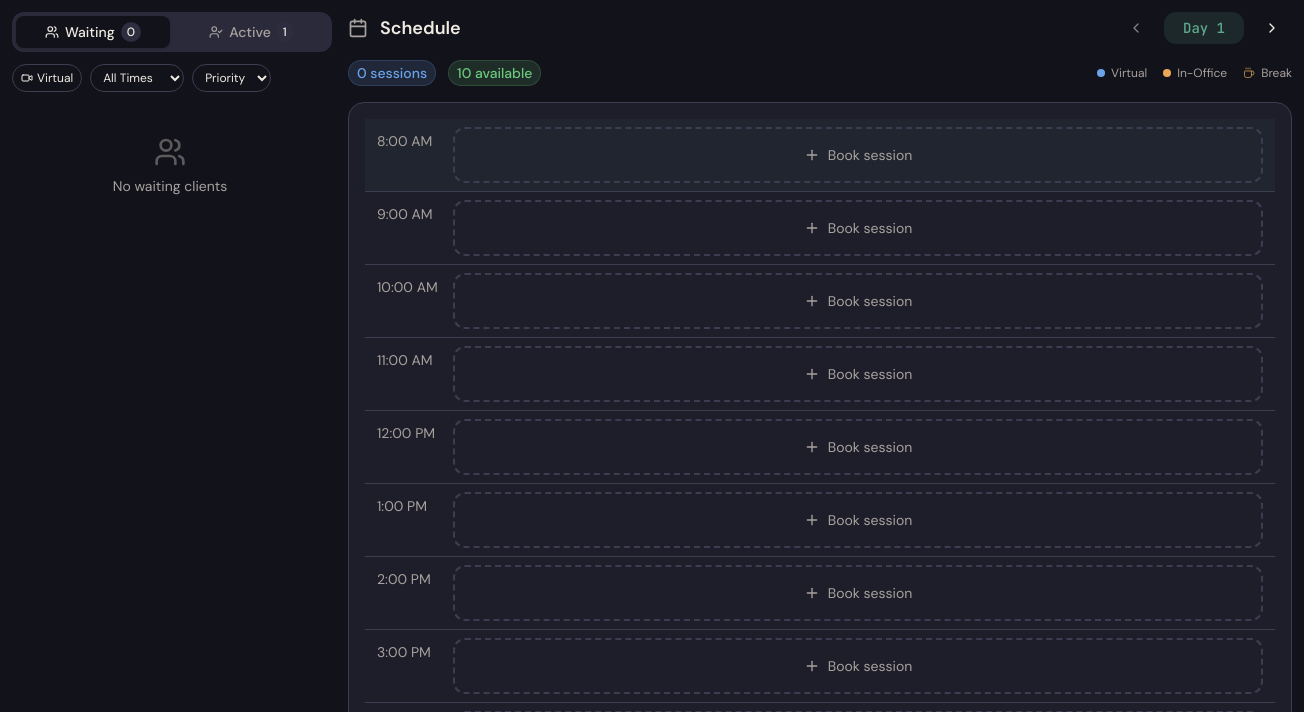
Test: BookingDashboard Auto-Population › shows active clients tab with count
Note: Click to switch to active view
Step 1. Click the button "Active 1" → {"x": 251, "y": 32}, box [174,16,328,48]
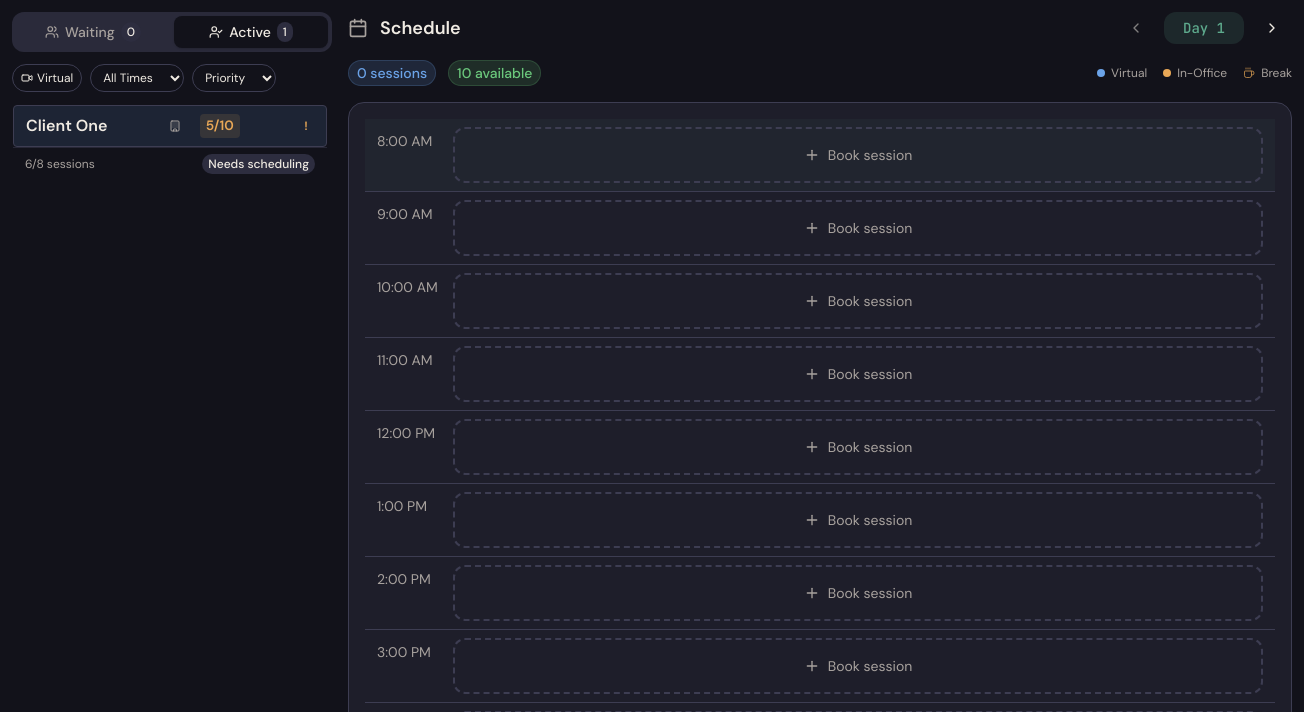
Expected: the text "Client One" is shown, [26,114,107,138]
